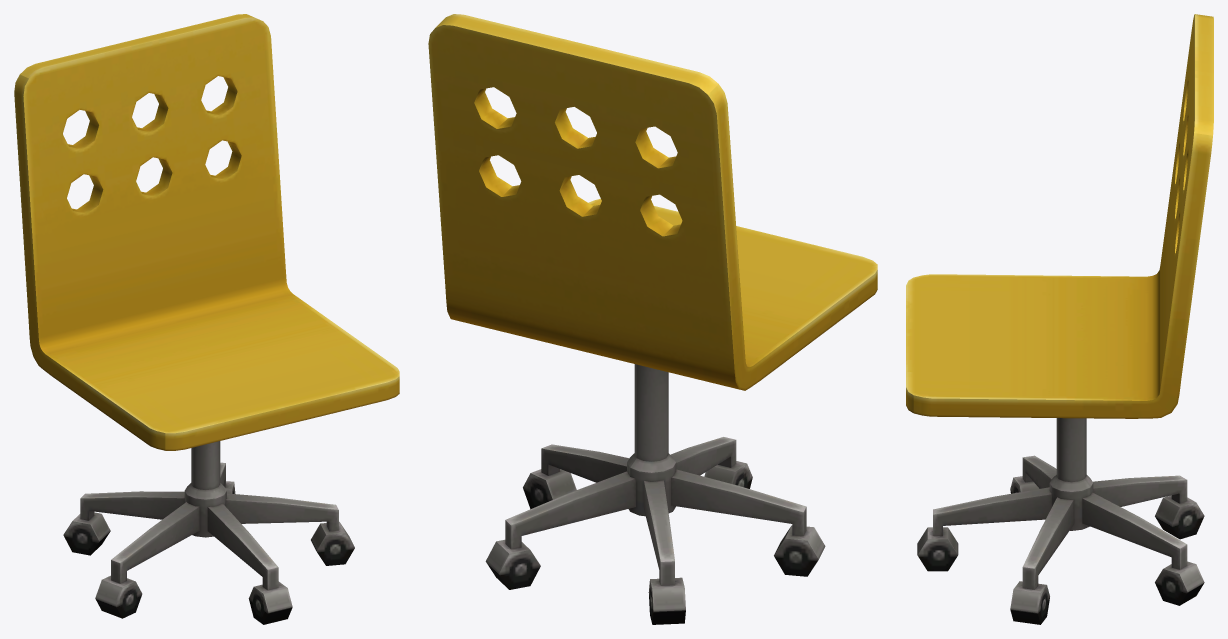
Rendered from silla.fbx.
3 renders of one model, left to right at view 1: azimuth 30°, elevation 25°; view 2: azimuth 150°, elevation 25°; view 3: azimuth 270°, elevation 25°, orthographic. The views are drawn at different scales.
Visible parts, largest first — view 1: s4studio_mesh_1; view 2: s4studio_mesh_1; view 3: s4studio_mesh_1.
Boxes of the visible parts, x1=… form: s4studio_mesh_1: x1=14, y1=14, x2=399, y2=624; s4studio_mesh_1: x1=428, y1=14, x2=877, y2=624; s4studio_mesh_1: x1=906, y1=14, x2=1213, y2=624.
Size of the model in its own units: 57.41 by 104 by 58.53.
Materials: 1 (1 with a texture image).
